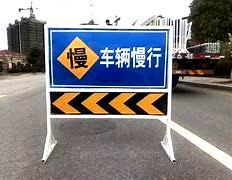sign: (47, 28, 167, 116)
